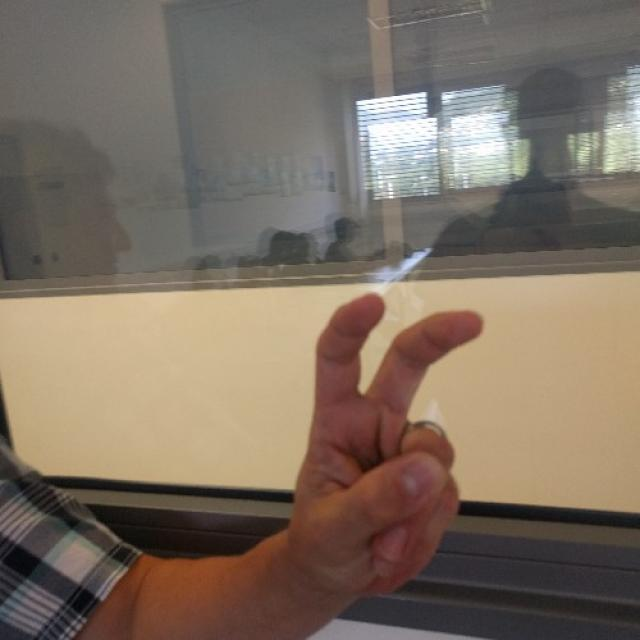scissors: (289, 294, 486, 600)
